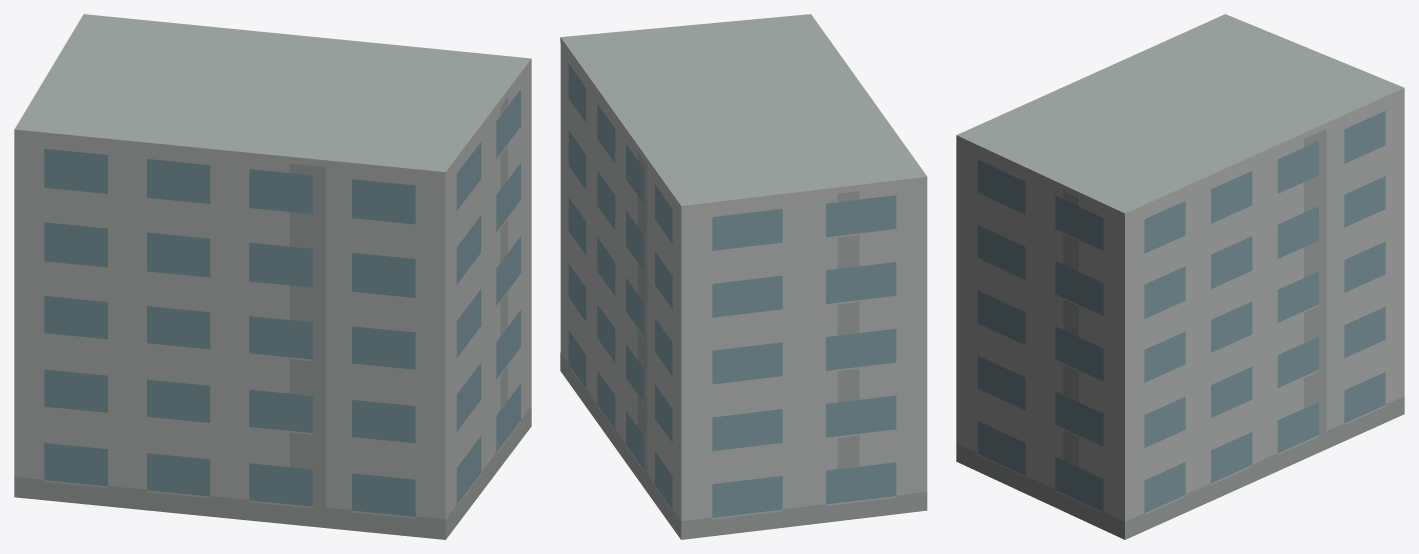
The model's file is survey-upis-32842751.glb.
The picture shows the model from 3 angles, left to right: view 1: azimuth 30°, elevation 25°; view 2: azimuth 150°, elevation 25°; view 3: azimuth 270°, elevation 25°; orthographic projection. The views are drawn at different scales.
Visible parts, largest first — view 1: survey-upis-32842751.tmp; view 2: survey-upis-32842751.tmp; view 3: survey-upis-32842751.tmp.
Boxes of the visible parts, <box> form: survey-upis-32842751.tmp: <box>14,14,531,539</box>; survey-upis-32842751.tmp: <box>560,14,927,539</box>; survey-upis-32842751.tmp: <box>956,14,1404,539</box>.
Size of the model in its own units: 17.18 by 13.1 by 16.31.
